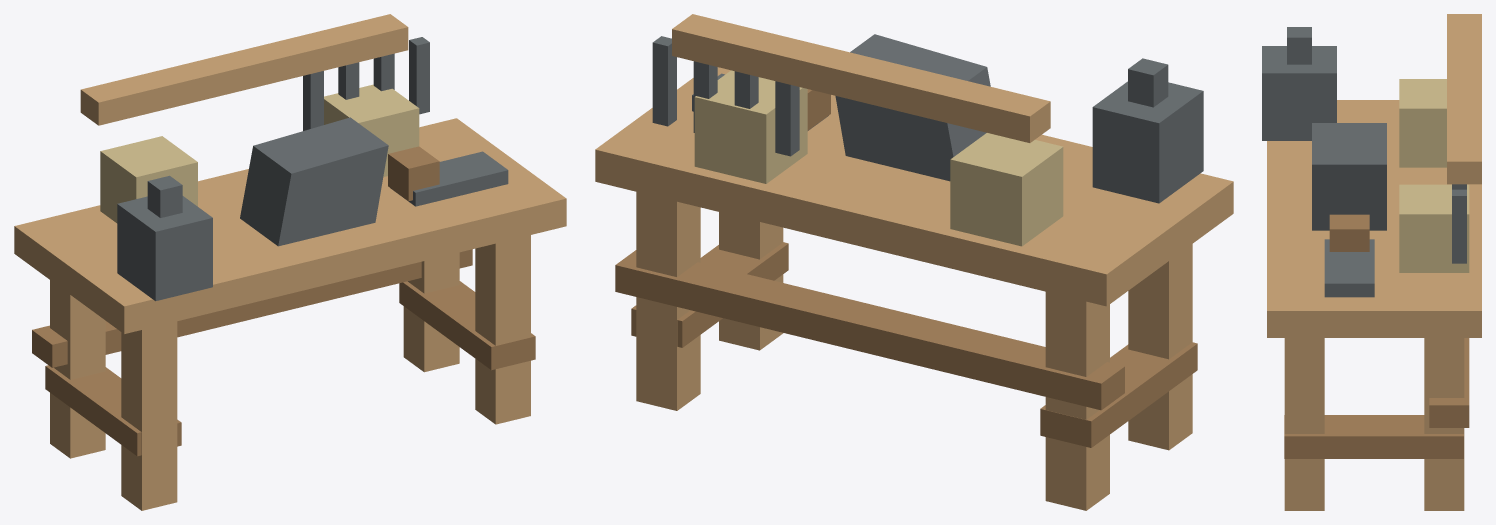
Rendered from squires-work-bench.glb.
The picture shows the model from 3 angles, left to right: view 1: azimuth 30°, elevation 25°; view 2: azimuth 150°, elevation 25°; view 3: azimuth 270°, elevation 25°; orthographic projection. The views are drawn at different scales.
Visible parts, largest first — view 1: squires-work-bench; view 2: squires-work-bench; view 3: squires-work-bench.
Boxes of the visible parts, bbox=[...] form: squires-work-bench: bbox=[14, 14, 566, 510]; squires-work-bench: bbox=[595, 14, 1233, 510]; squires-work-bench: bbox=[1262, 14, 1481, 510].
Size of the model in its own units: 2 by 1.46 by 0.88.
